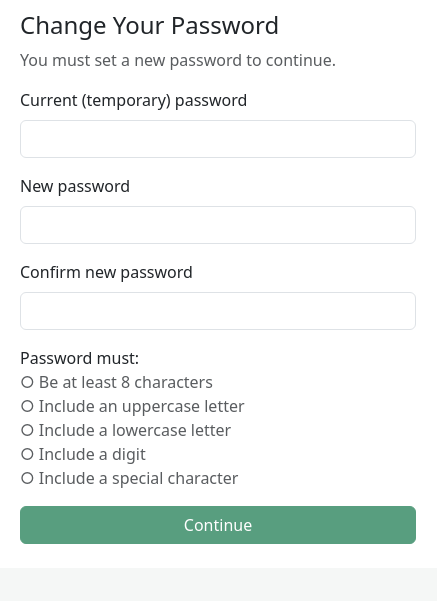
Test case: ChangePassword (UI-02) › shows a safe error when the current password is wrong
This screenshot has width=437, height=601.
In the password field labelled "Current (temporary) password": (218, 139) 20,120 -> 416,158, type "WrongOne1!"
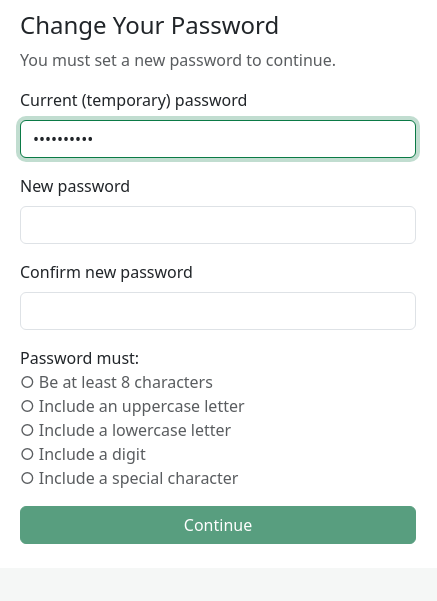
In the password field labelled "New password": (218, 225) 20,206 -> 416,244, type "BrandNewPass9!"
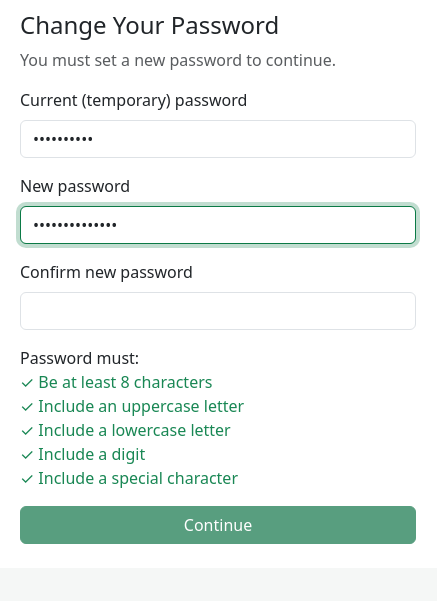
In the password field labelled "Confirm new password": (218, 311) 20,292 -> 416,330, type "BrandNewPass9!"
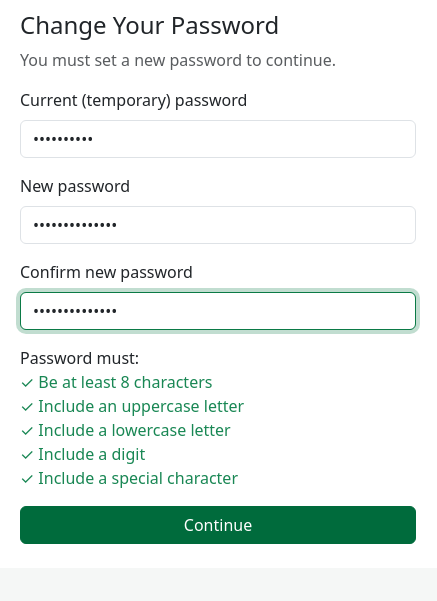
Click the button "Continue": (218, 525) 20,506 -> 416,544
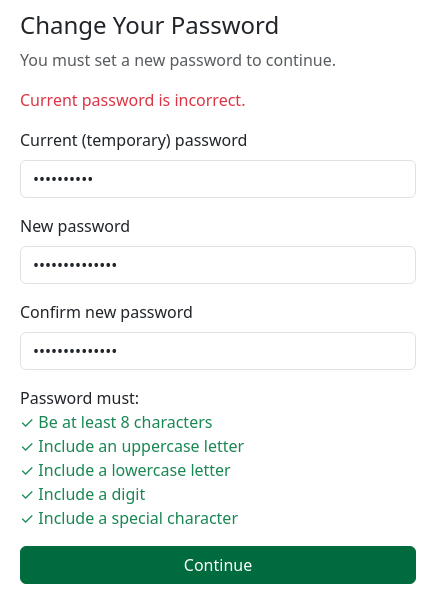
Expected: the text "Current password is incorrect." is shown, 20,89 -> 245,111
